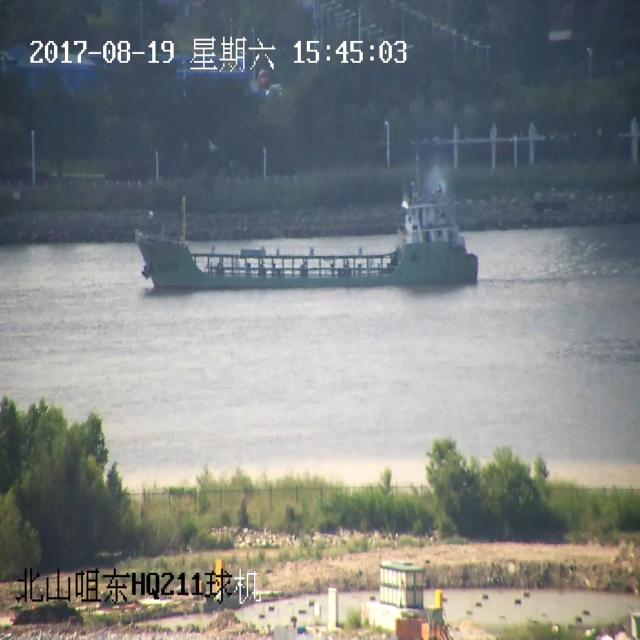houseboat: (135, 159, 478, 296)
